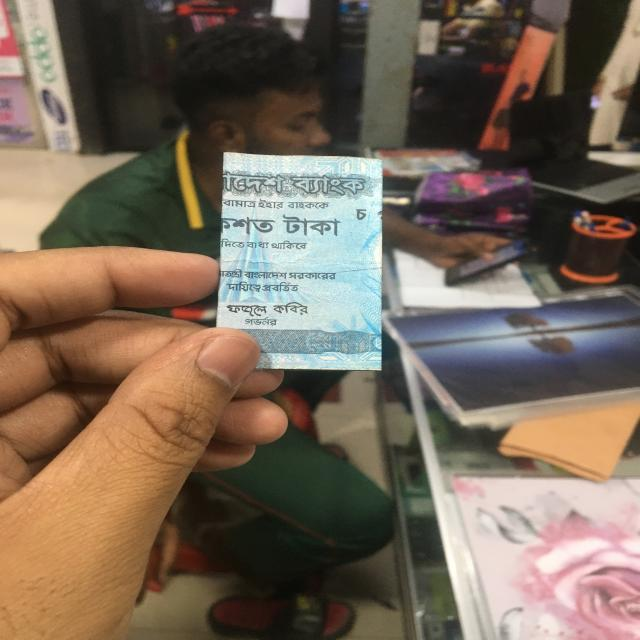Taka: (220, 151, 384, 369)
